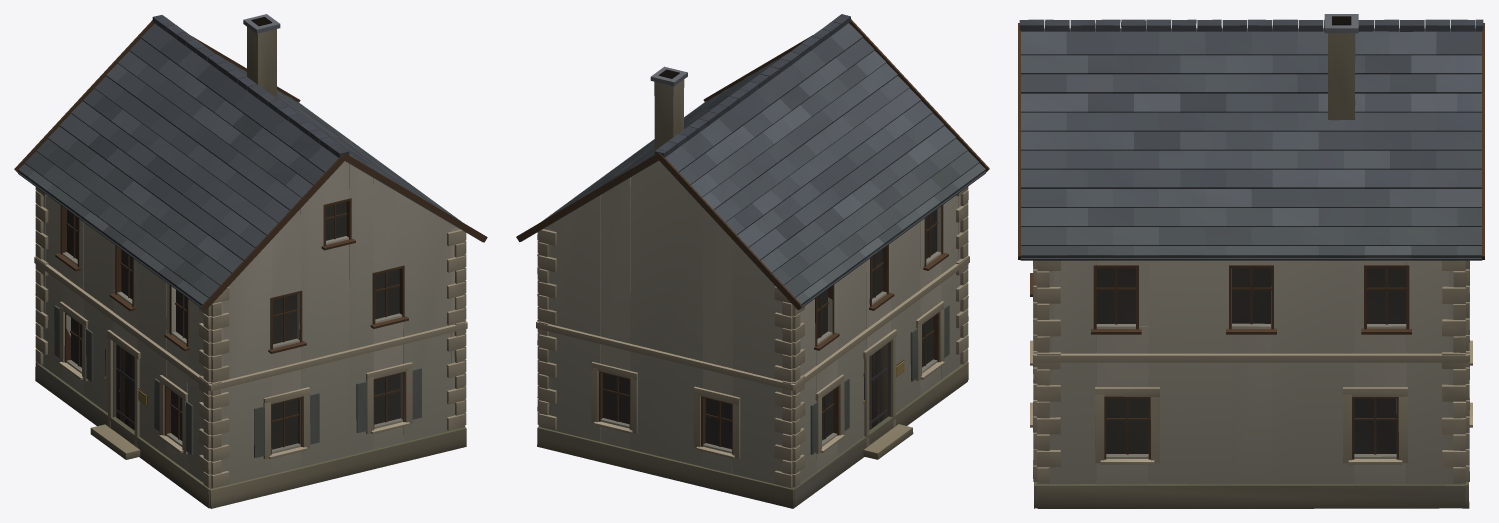
The model's file is ph_bld_v_surgery.glb.
The picture shows the model from 3 angles, left to right: view 1: azimuth 30°, elevation 25°; view 2: azimuth 150°, elevation 25°; view 3: azimuth 270°, elevation 25°; orthographic projection. The views are drawn at different scales.
Visible parts, largest first — view 1: ph_bld_v_surgery; view 2: ph_bld_v_surgery; view 3: ph_bld_v_surgery.
Part boxes in pixels (x1,y1,x2,y2): ph_bld_v_surgery: [14, 14, 487, 508]; ph_bld_v_surgery: [516, 14, 989, 508]; ph_bld_v_surgery: [1018, 14, 1484, 508].
Bounding box in the file's own units: 7.25 × 8.61 × 8.29.
